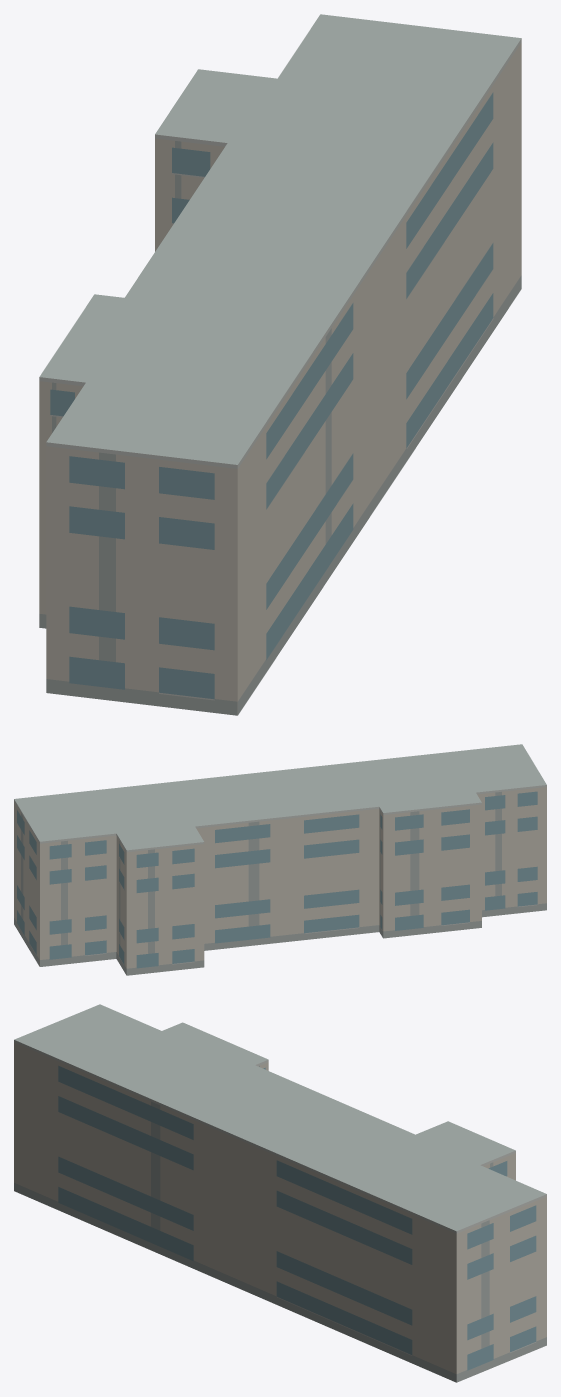
The model's file is residential-dab3699e-066d-4674-a91b-05b50e64dc4d.glb.
3 renders of one model, top to bottom at view 1: azimuth 30°, elevation 25°; view 2: azimuth 150°, elevation 25°; view 3: azimuth 270°, elevation 25°, orthographic. The views are drawn at different scales.
Visible parts, largest first — view 1: residential-dab3699e-066d-4674-a91b-05b50e64dc4d.tmp; view 2: residential-dab3699e-066d-4674-a91b-05b50e64dc4d.tmp; view 3: residential-dab3699e-066d-4674-a91b-05b50e64dc4d.tmp.
Part boxes in pixels (<box>): residential-dab3699e-066d-4674-a91b-05b50e64dc4d.tmp: <box>39,14,521,715</box>; residential-dab3699e-066d-4674-a91b-05b50e64dc4d.tmp: <box>14,744,546,975</box>; residential-dab3699e-066d-4674-a91b-05b50e64dc4d.tmp: <box>14,1004,546,1382</box>.
Bounding box in the file's own units: 49.06 × 15.25 × 48.66.
